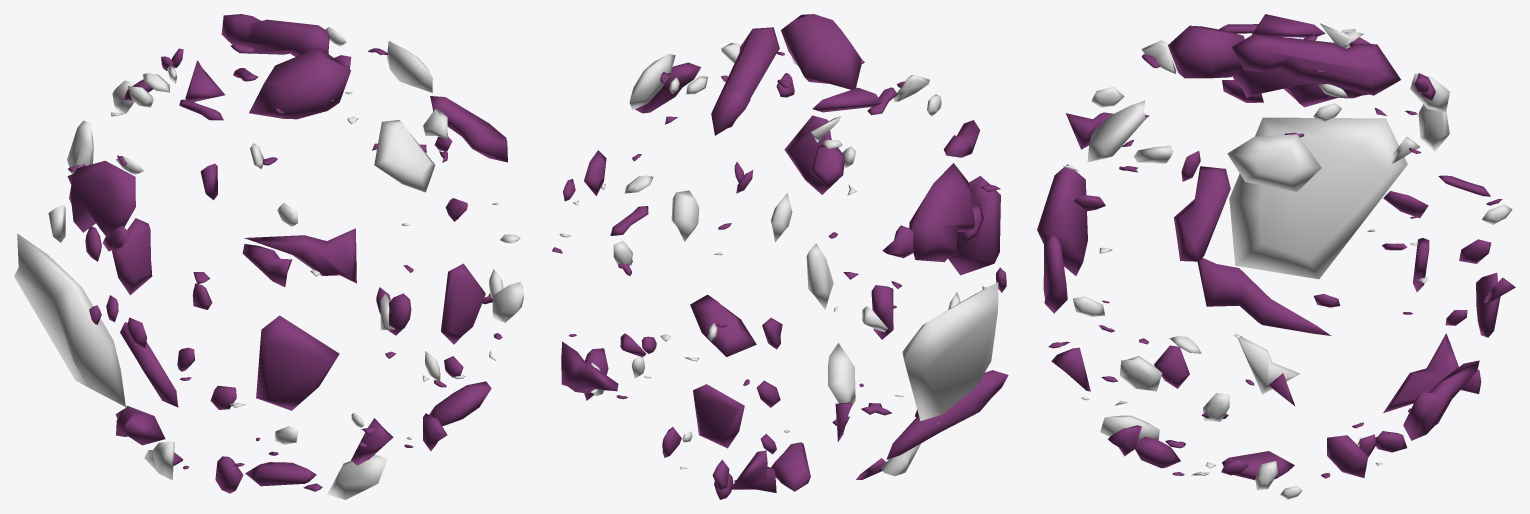
The model's file is static orb.fbx.
3 views of the same model, side by side, from view 1: azimuth 30°, elevation 25°; view 2: azimuth 150°, elevation 25°; view 3: azimuth 270°, elevation 25° (orthographic). The views are drawn at different scales.
Parts seen in each view (by area): view 1: shard_body.001, shard_body.036, shard_body.002, shard_body.003, shard_body, shard_body.004, shard_body.022, shard_body.024, shard_body.016, shard_body.013, shard_body.037, shard_body.043 (+14 smaller); view 2: shard_body.001, shard_body.003, shard_body.002, shard_body, shard_body.036, shard_body.020, shard_body.013, shard_body.043, shard_body.024, shard_body.004, shard_body.037, shard_body.030 (+14 smaller); view 3: shard_body.001, shard_body, shard_body.028, shard_body.020, shard_body.036, shard_body.016, shard_body.002, shard_body.004, shard_body.003, shard_body.005, shard_body.022, shard_body.024 (+21 smaller).
Part boxes in pixels (x1,y1,x2,y2): shard_body.001: [14, 233, 125, 406]; shard_body.036: [256, 315, 339, 410]; shard_body.002: [249, 47, 351, 119]; shard_body.003: [69, 160, 135, 238]; shard_body: [221, 14, 329, 56]; shard_body.004: [244, 228, 356, 283]; shard_body.022: [374, 120, 435, 192]; shard_body.024: [441, 263, 485, 344]; shard_body.016: [430, 96, 507, 162]; shard_body.013: [112, 218, 152, 295]; shard_body.037: [327, 454, 387, 499]; shard_body.043: [429, 381, 491, 426]; shard_body.001: [902, 282, 998, 420]; shard_body.003: [909, 163, 975, 262]; shard_body.002: [781, 14, 862, 89]; shard_body: [711, 27, 779, 135]; shard_body.036: [948, 176, 1000, 275]; shard_body.020: [886, 370, 1008, 459]; shard_body.013: [693, 384, 744, 448]; shard_body.043: [690, 294, 756, 356]; shard_body.024: [784, 115, 838, 194]; shard_body.004: [561, 341, 618, 393]; shard_body.037: [828, 343, 855, 407]; shard_body.030: [771, 442, 810, 491]; shard_body.001: [1229, 117, 1407, 279]; shard_body: [1232, 34, 1400, 95]; shard_body.028: [1227, 134, 1321, 191]; shard_body.020: [1197, 257, 1331, 335]; shard_body.036: [1037, 164, 1087, 275]; shard_body.016: [1174, 166, 1230, 261]; shard_body.002: [1168, 25, 1244, 78]; shard_body.004: [1403, 360, 1479, 440]; shard_body.003: [1232, 68, 1336, 107]; shard_body.005: [1383, 333, 1458, 412]; shard_body.022: [1087, 100, 1145, 162]; shard_body.024: [1043, 234, 1067, 313].
Size of the model in its own units: 104 by 105 by 99.59.
